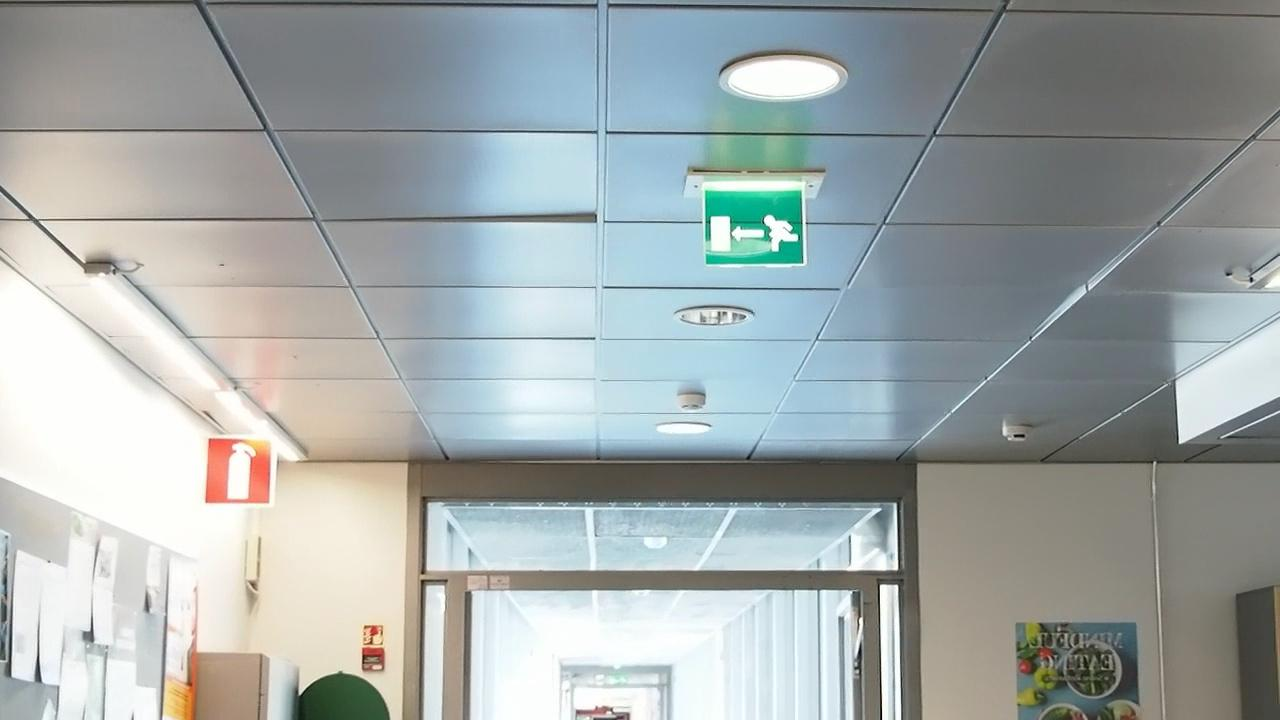exit: (701, 183, 813, 268)
fireextinguisher: (198, 440, 266, 512)
